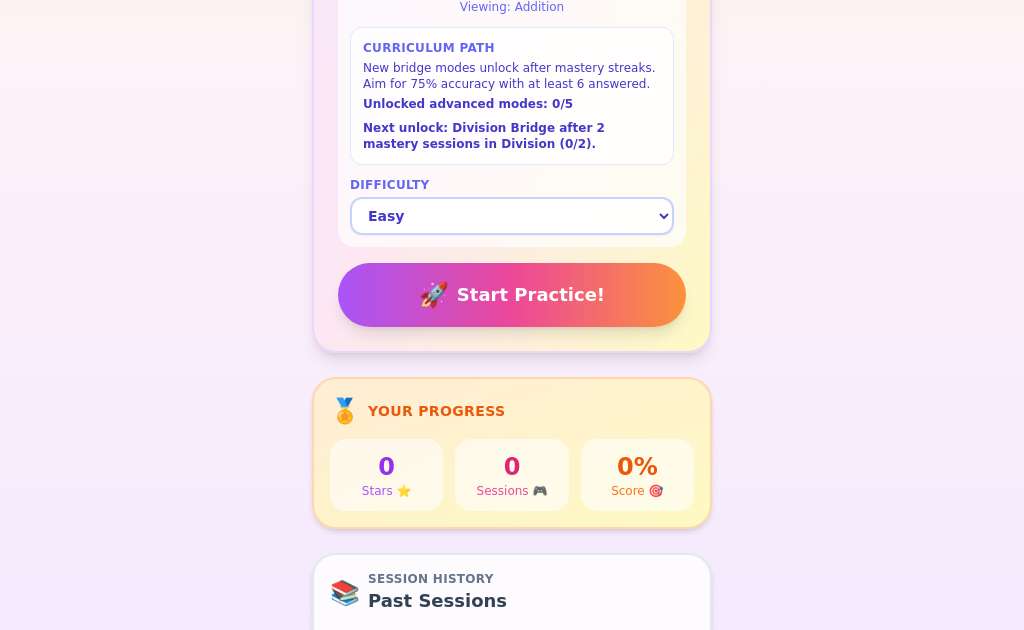
it: records ended sessions in the history list
(page scrolled)
Click the button "🚀 Start Practice!" at (512, 295), box [338, 263, 686, 327]
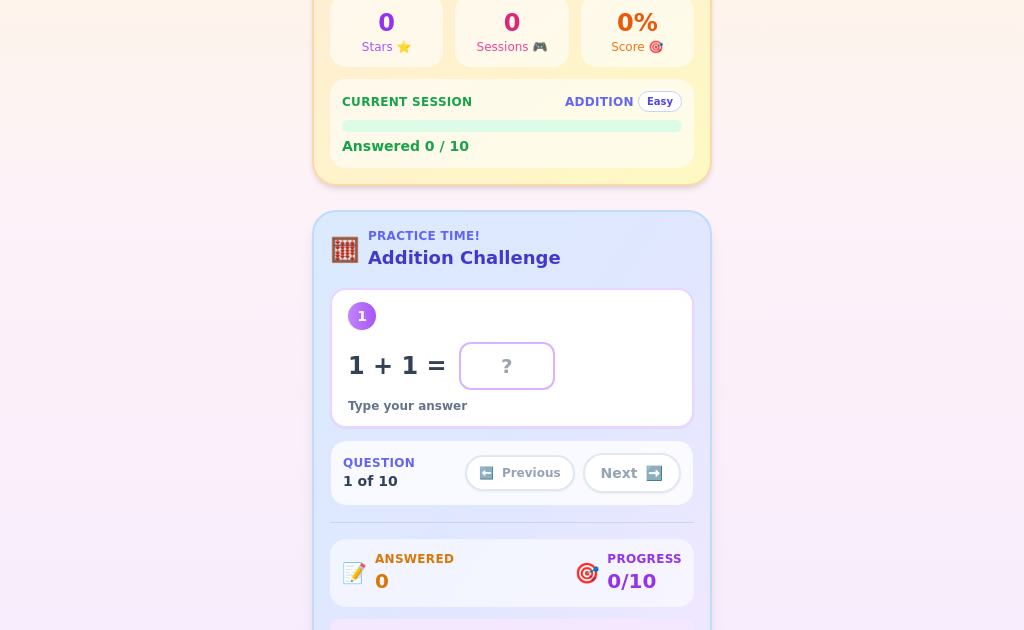
Type "1" into the field named "answer for question 1" at (507, 366), box [459, 342, 555, 390]
(page scrolled)
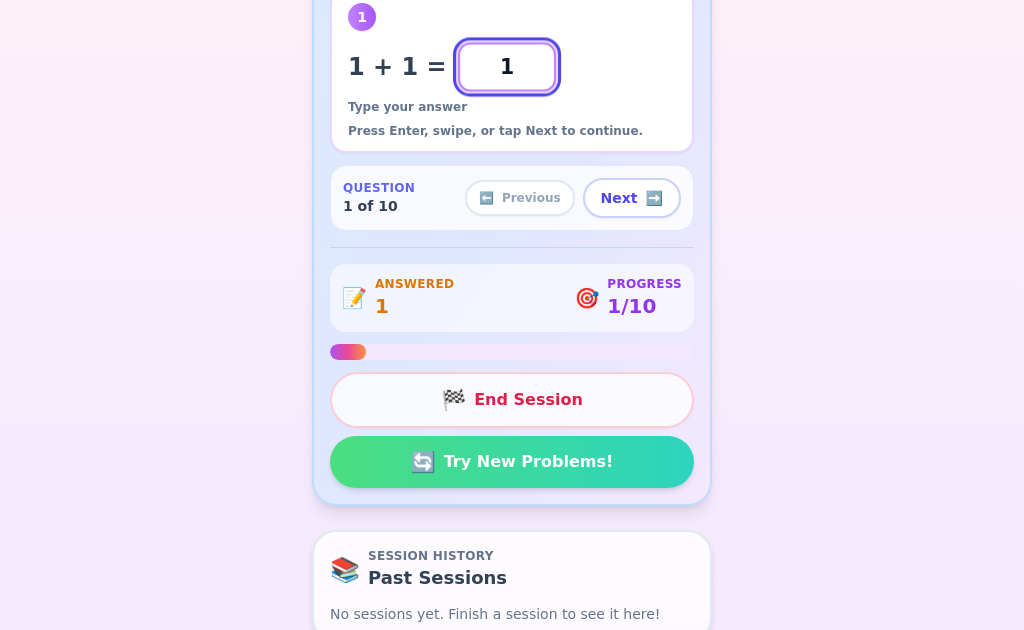
Click the button with aria-label "end current session" at (512, 400), box [330, 372, 694, 428]
(page scrolled)
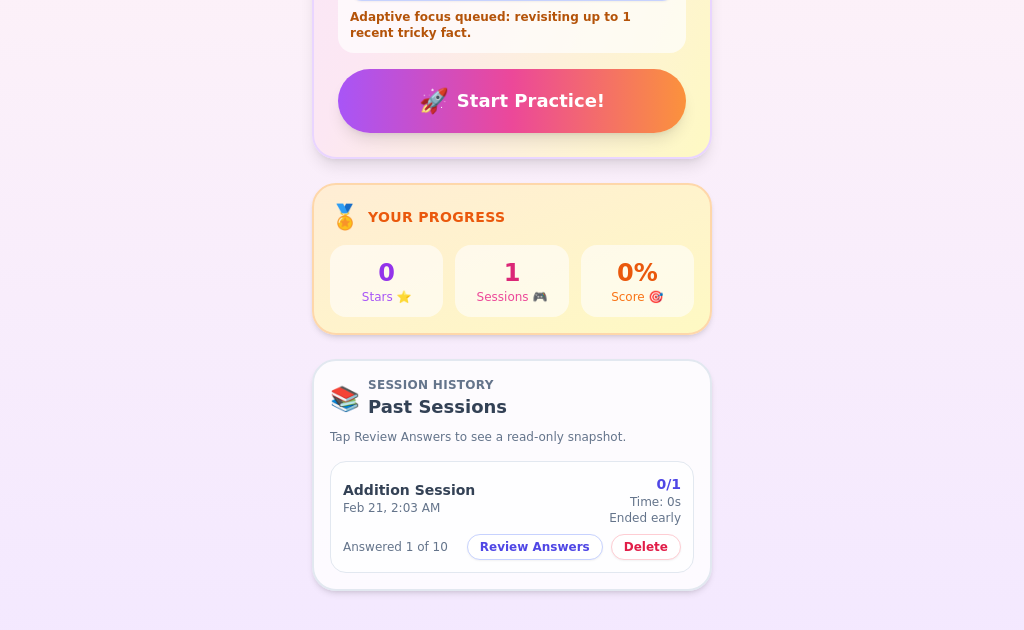
Expected: the text "Addition Session" is shown, [343, 480, 475, 500]
Expected: the text "0/1" is shown, [656, 476, 681, 492]
Expected: the text "Ended early" is shown, [609, 510, 681, 526]
